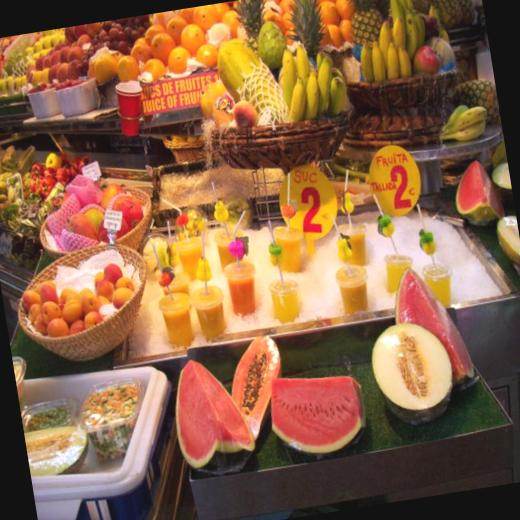Cherry: (388, 259, 479, 393), (167, 354, 258, 480), (262, 360, 369, 465), (450, 156, 506, 227)
